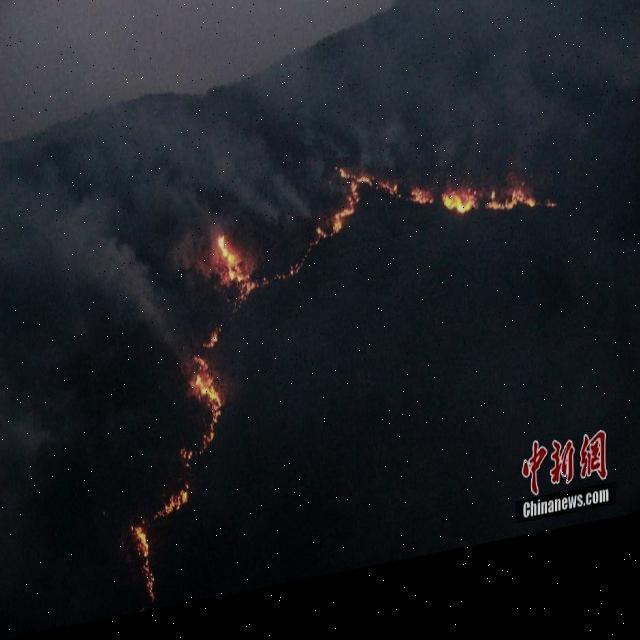Fire: (127, 120, 556, 610)
